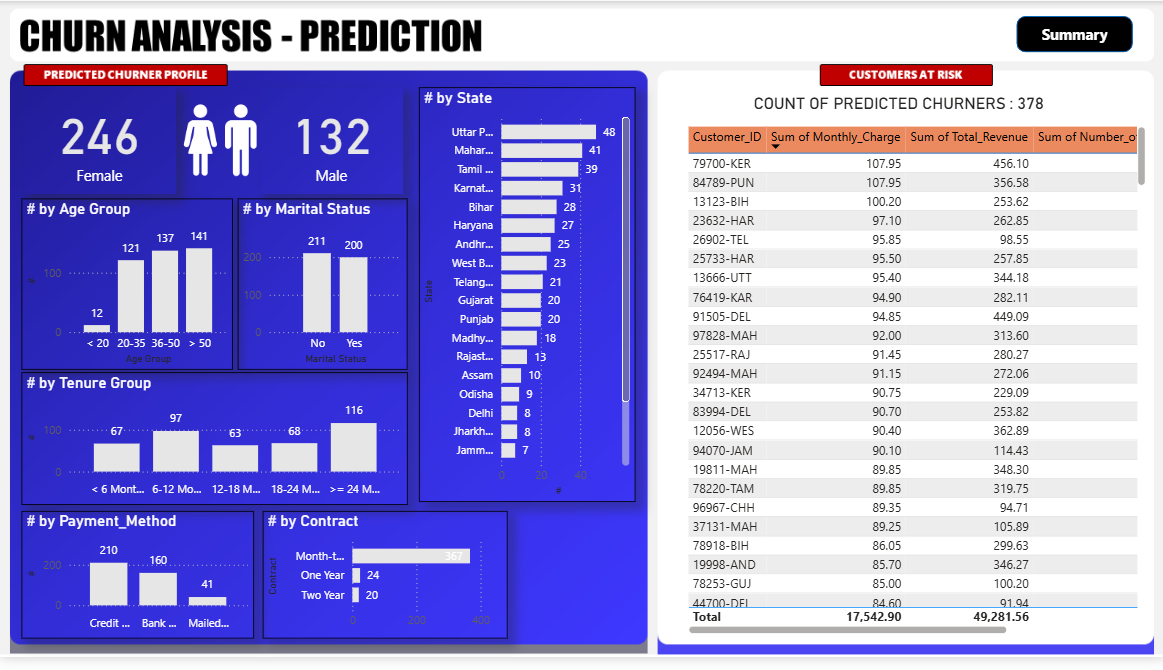

What the dashboard file says about the page in this screenshot:
{"tool":"powerbi","page":{"name":"Prediction","canvas":[1280,720],"ordinal":1},"visuals":[{"type":"tableEx","fields":{"Values":["Predictions.Customer_ID","Sum(Predictions.Monthly_Charge)","Sum(Predictions.Total_Revenue)","Sum(Predictions.Number_of_Referrals)","Sum(Predictions.Total_Refunds)"]},"box":[750.6,133.1,513.2,566.7],"z":0},{"type":"card","fields":{"Values":["tbl_Measures.Predicted Churners"]},"box":[776.7,96.1,422.6,32.9],"z":1000},{"type":"card","fields":{"Values":["tbl_Measures.Count Predicted Churner"]},"box":[27.4,94.7,166,116.6],"z":2000},{"type":"card","fields":{"Values":["tbl_Measures.Count Predicted Churner"]},"box":[286.8,94.7,156.4,116.6],"z":3000},{"type":"clusteredColumnChart","fields":{"Category":["mapping_AgeGrp.Age Group"],"Y":["CountNonNull(Predictions.Customer_ID)"]},"box":[24.7,216.8,231.9,188],"z":4000},{"type":"clusteredColumnChart","fields":{"Y":["CountNonNull(Predictions.Customer_ID)"],"Category":["Predictions.Married"]},"box":[262.1,216.8,186.6,188],"z":5000},{"type":"clusteredColumnChart","fields":{"Y":["CountNonNull(Predictions.Customer_ID)"],"Category":["mapping_TenureGrp.Tenure Group"]},"box":[24.7,407.5,424,145.5],"z":6000},{"type":"clusteredColumnChart","fields":{"Y":["CountNonNull(Predictions.Customer_ID)"],"Category":["Predictions.Payment_Method"]},"box":[24.7,559.9,255.2,140],"z":7000},{"type":"clusteredBarChart","fields":{"Y":["CountNonNull(Predictions.Customer_ID)"],"Category":["Predictions.State"]},"box":[461.1,94.7,237.4,455.6],"z":8000},{"type":"clusteredBarChart","fields":{"Category":["Predictions.Contract"],"Y":["CountNonNull(Predictions.Customer_ID)"]},"box":[289.5,559.9,269,140],"z":9000},{"type":"image","box":[188,93.3,109.8,118],"z":10000},{"type":"shape","box":[1117,16.5,127.6,39.8],"z":11000}]}

Visuals, with their boxes in screenshot pixels (x1, y1, x2, y2), scaled from the page's 1280x720 canvas onto the 1163x670 screenshot:
tableEx - Predictions.Customer_ID x Sum(Predictions.Monthly_Charge): (left=682, top=124, right=1148, bottom=651)
card - tbl_Measures.Predicted Churners: (left=706, top=89, right=1090, bottom=120)
card - tbl_Measures.Count Predicted Churner: (left=25, top=88, right=176, bottom=197)
card - tbl_Measures.Count Predicted Churner: (left=261, top=88, right=403, bottom=197)
clusteredColumnChart - mapping_AgeGrp.Age Group x CountNonNull(Predictions.Customer_ID): (left=22, top=202, right=233, bottom=377)
clusteredColumnChart - CountNonNull(Predictions.Customer_ID) x Predictions.Married: (left=238, top=202, right=408, bottom=377)
clusteredColumnChart - CountNonNull(Predictions.Customer_ID) x mapping_TenureGrp.Tenure Group: (left=22, top=379, right=408, bottom=515)
clusteredColumnChart - CountNonNull(Predictions.Customer_ID) x Predictions.Payment_Method: (left=22, top=521, right=254, bottom=651)
clusteredBarChart - CountNonNull(Predictions.Customer_ID) x Predictions.State: (left=419, top=88, right=635, bottom=512)
clusteredBarChart - Predictions.Contract x CountNonNull(Predictions.Customer_ID): (left=263, top=521, right=507, bottom=651)
image: (left=171, top=87, right=271, bottom=197)
shape: (left=1015, top=15, right=1131, bottom=52)
